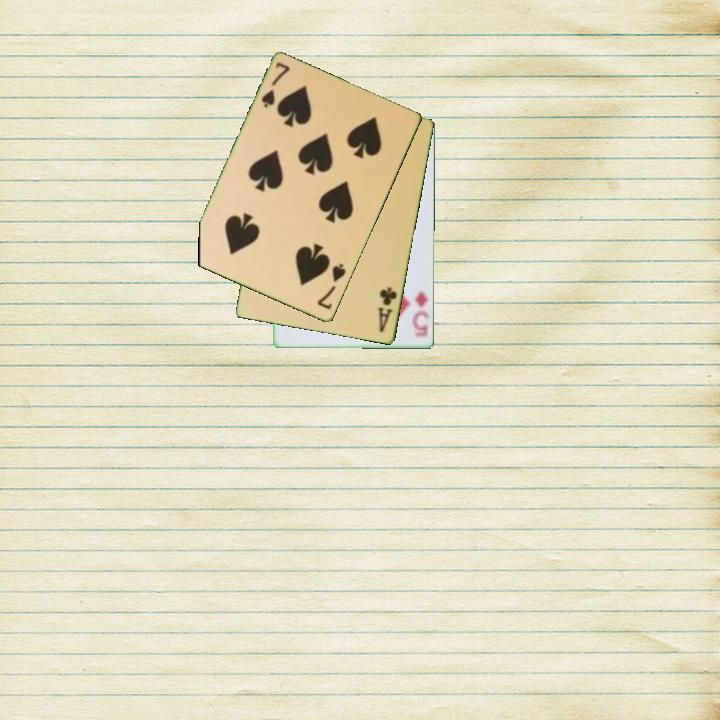5d: (409, 287, 432, 342)
7s: (314, 260, 349, 313), (258, 59, 293, 111)
Ac: (375, 284, 400, 336)
